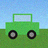vehicle: (5, 14, 39, 39)
